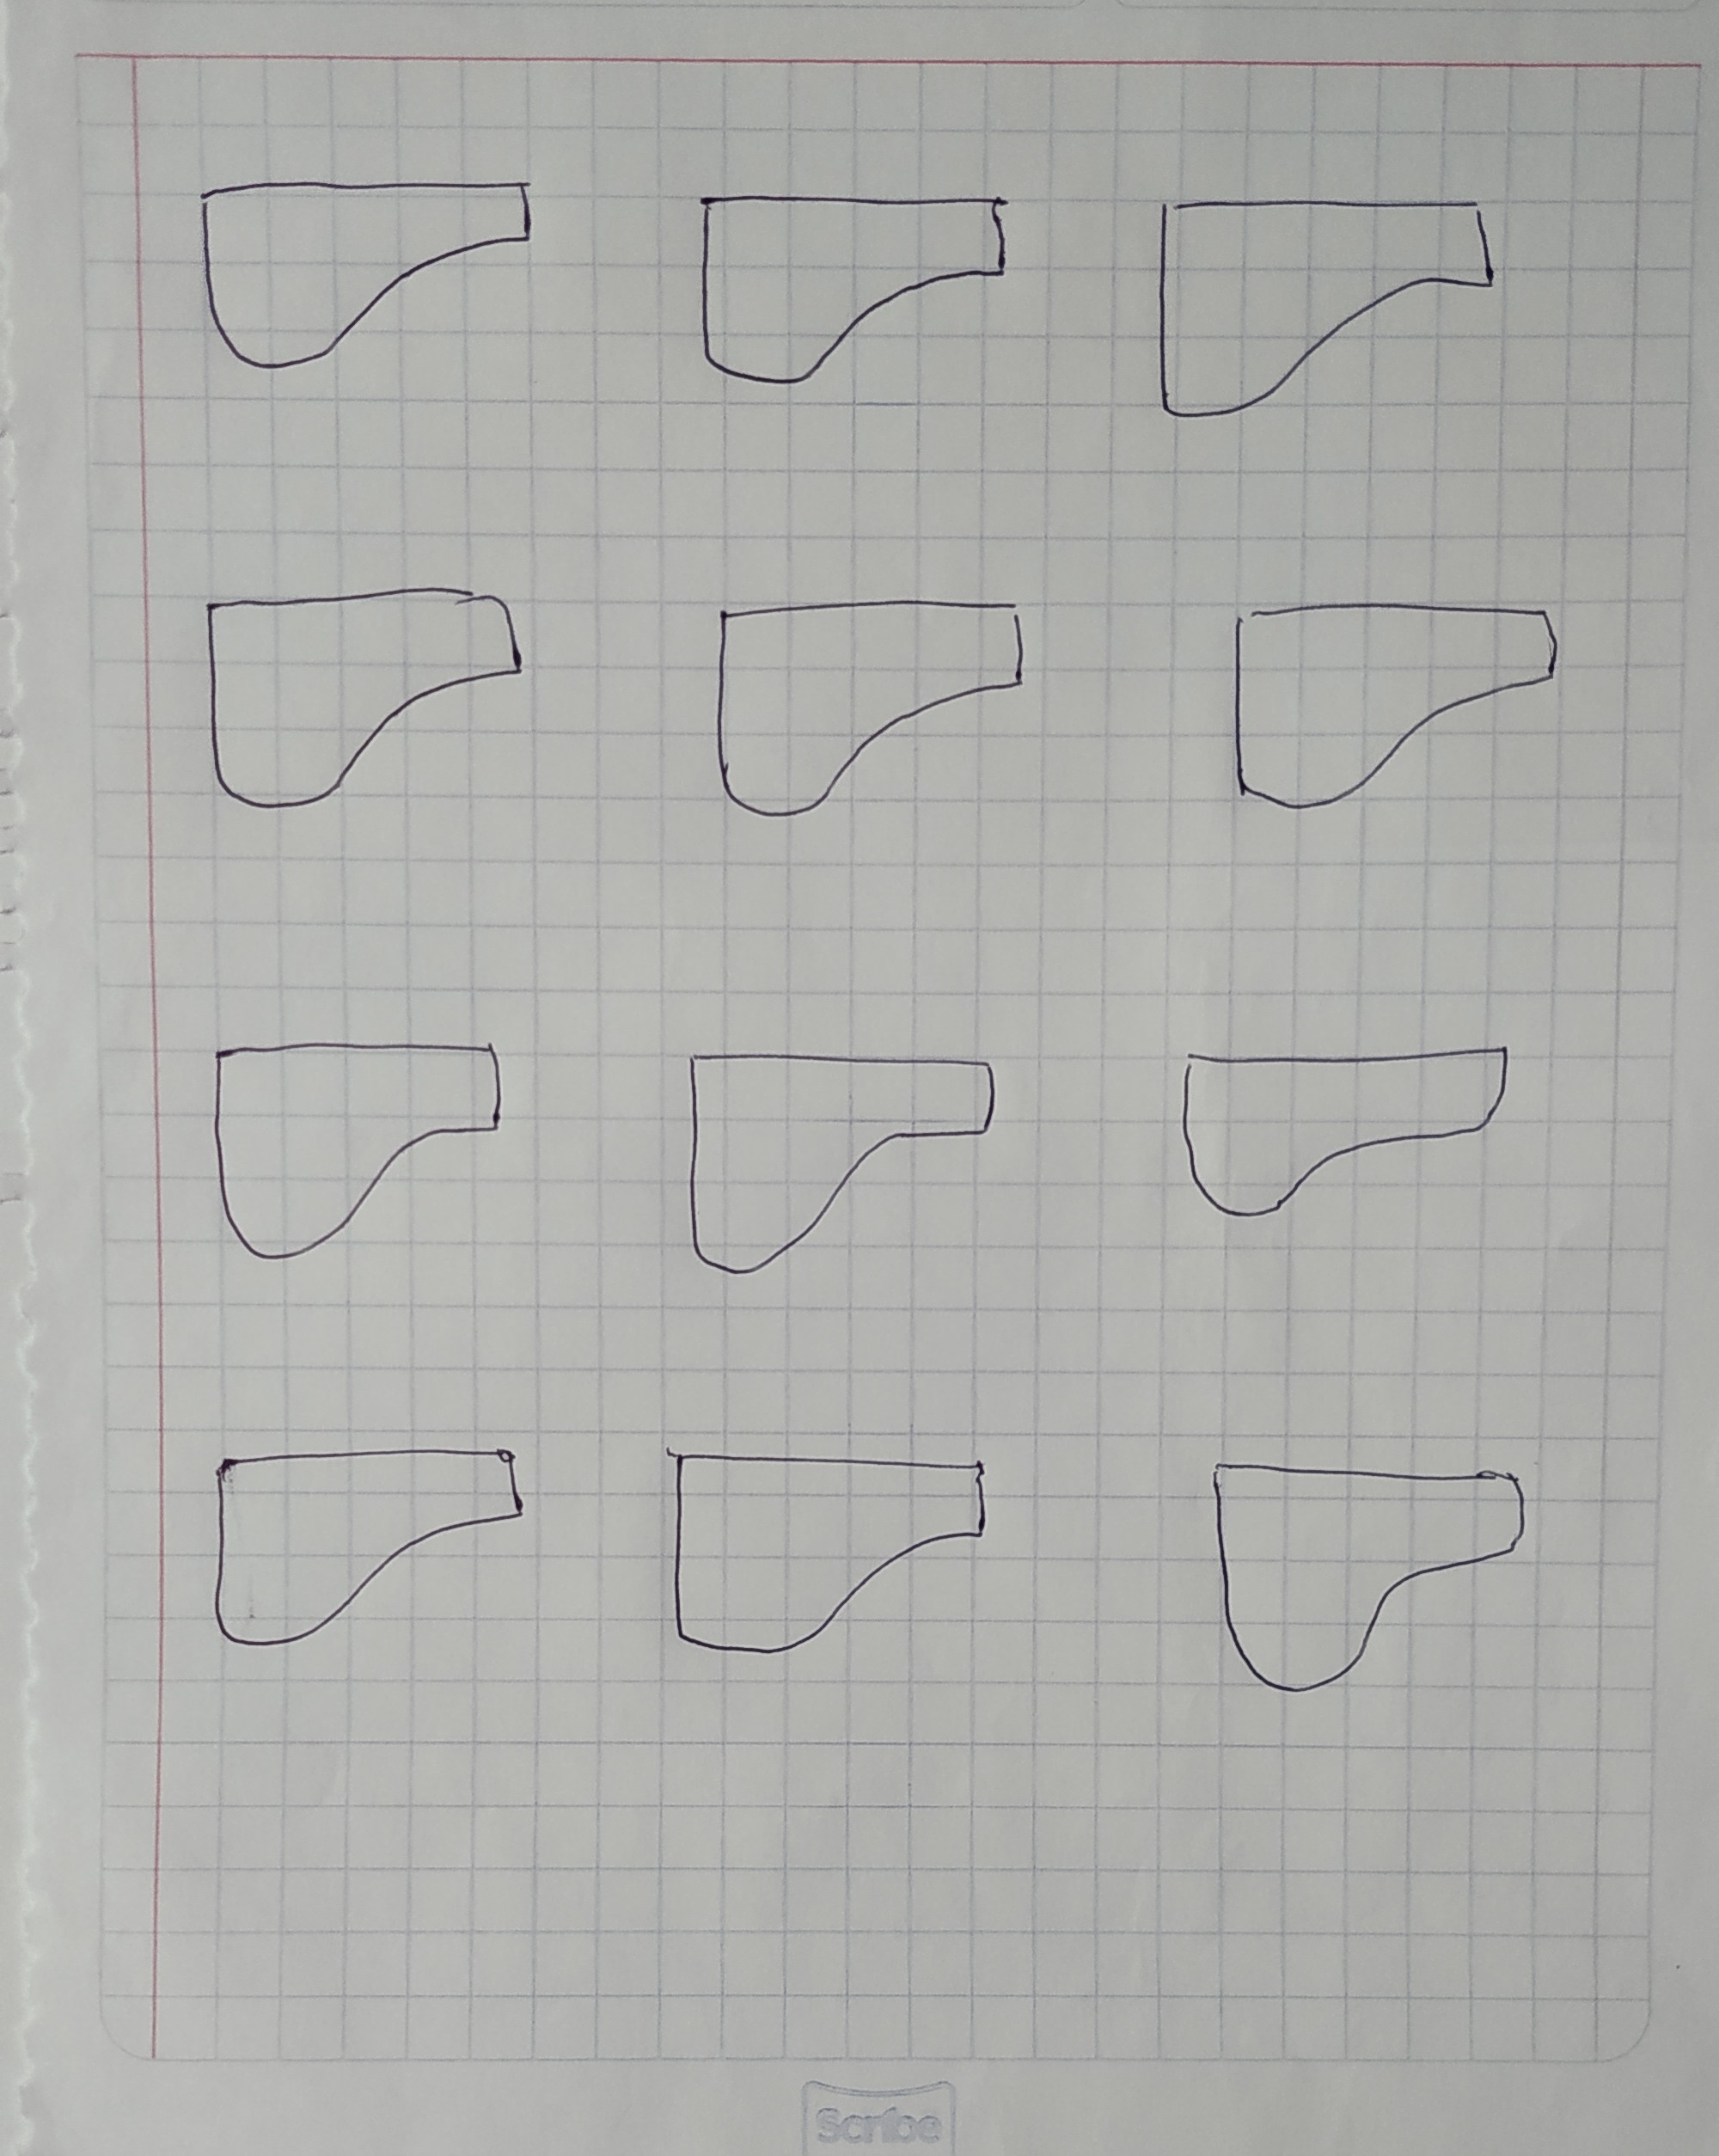print: (1202, 1437, 1540, 1712), (1147, 182, 1509, 432), (189, 570, 530, 823), (677, 1032, 1009, 1286), (1217, 582, 1579, 816), (705, 582, 1037, 830), (202, 1430, 542, 1663), (654, 1426, 996, 1656), (198, 1028, 516, 1274), (189, 165, 546, 379), (686, 177, 1021, 400), (1163, 1026, 1526, 1230)
